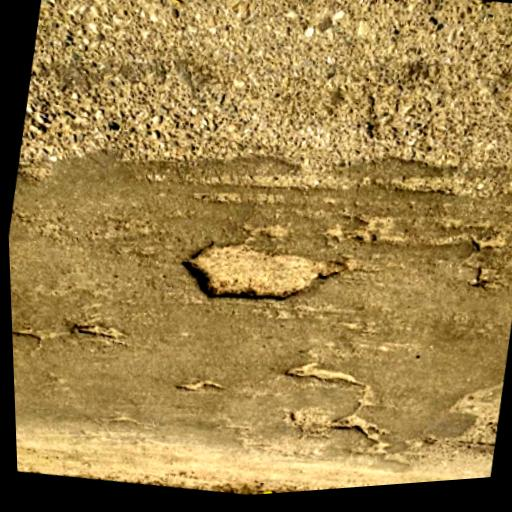pothole: (172, 226, 348, 326), (280, 359, 370, 394), (326, 408, 392, 451)
